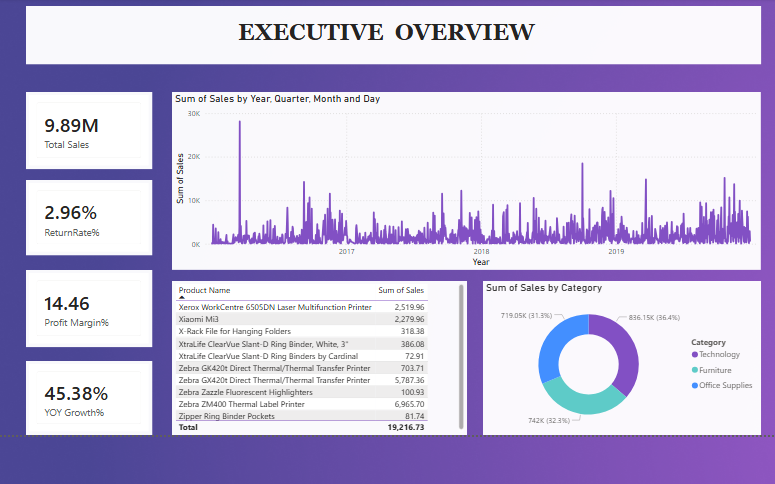

The page's visual inventory and layout, read from the dashboard file:
{"tool":"powerbi","page":{"name":"EXE OV","canvas":[1280,720],"ordinal":0},"visuals":[{"type":"cardVisual","fields":{"Data":["Orders.Profit Margin%"]},"box":[44.5,448.1,207.6,126.8],"z":0},{"type":"cardVisual","fields":{"Data":["Orders.Total Sales"]},"box":[44.5,154.9,207.6,126.8],"z":1000},{"type":"cardVisual","fields":{"Data":["Returns.ReturnRate%"]},"box":[44.5,299.8,207.6,123.6],"z":2000},{"type":"textbox","box":[44.5,13.2,1210.8,95.5],"z":3000},{"type":"cardVisual","fields":{"Data":["Orders.YOY Growth%"]},"box":[44.5,598,207.6,121.9],"z":4000},{"type":"lineChart","fields":{"Y":["Sum(Orders.Sales)"],"Category":["Orders.Order Date.Variation.Date Hierarchy.Year","Orders.Order Date.Variation.Date Hierarchy.Quarter","Orders.Order Date.Variation.Date Hierarchy.Month","Orders.Order Date.Variation.Date Hierarchy.Day"]},"box":[285,154.9,970.3,293.2],"z":5000},{"type":"tableEx","fields":{"Values":["Orders.Product Name","Sum(Orders.Sales)"]},"box":[285,466.2,486,253.7],"z":6000},{"type":"donutChart","fields":{"Category":["Orders.Category"],"Y":["Sum(Orders.Sales)"]},"box":[797.3,466.2,458,253.7],"z":7000}]}

Visuals, with their boxes in screenshot pixels (x1, y1, x2, y2):
cardVisual - Orders.Profit Margin%: box=[27, 266, 151, 341]
cardVisual - Orders.Total Sales: box=[27, 90, 151, 166]
cardVisual - Returns.ReturnRate%: box=[27, 177, 151, 251]
textbox: box=[27, 6, 750, 63]
cardVisual - Orders.YOY Growth%: box=[27, 355, 151, 428]
lineChart - Sum(Orders.Sales) x Orders.Order Date.Variation.Date Hierarchy.Year: box=[170, 90, 750, 266]
tableEx - Orders.Product Name x Sum(Orders.Sales): box=[170, 276, 460, 428]
donutChart - Orders.Category x Sum(Orders.Sales): box=[476, 276, 750, 428]
